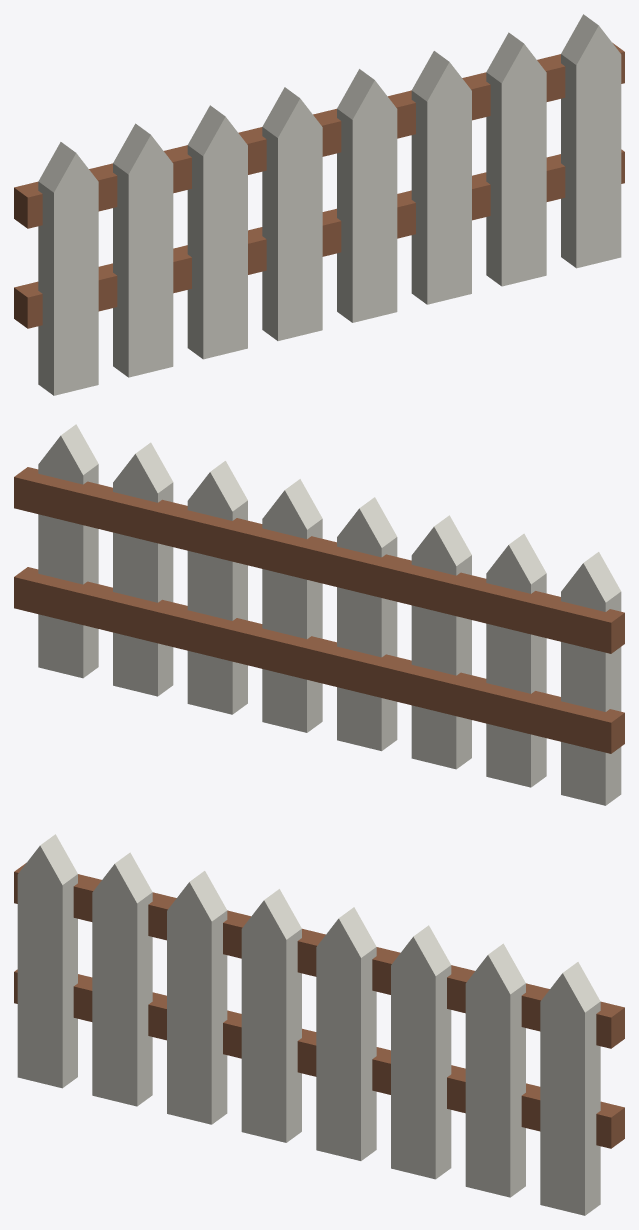
File: three-d-christmas-village-christmas-village-picket-fence-f14753ed.glb
3 renders of one model, top to bottom at view 1: azimuth 30°, elevation 25°; view 2: azimuth 150°, elevation 25°; view 3: azimuth 330°, elevation 25°, orthographic.
Visible parts, largest first — view 1: picket-fence; view 2: picket-fence; view 3: picket-fence.
Part boxes in pixels (bbox=[...]): picket-fence: bbox=[14, 14, 624, 395]; picket-fence: bbox=[14, 424, 624, 805]; picket-fence: bbox=[14, 834, 624, 1215].
Bounding box in the file's own units: 2 × 0.76 × 0.145.
